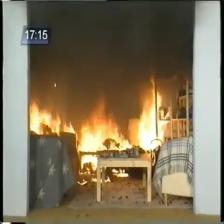fire: (22, 98, 177, 152)
